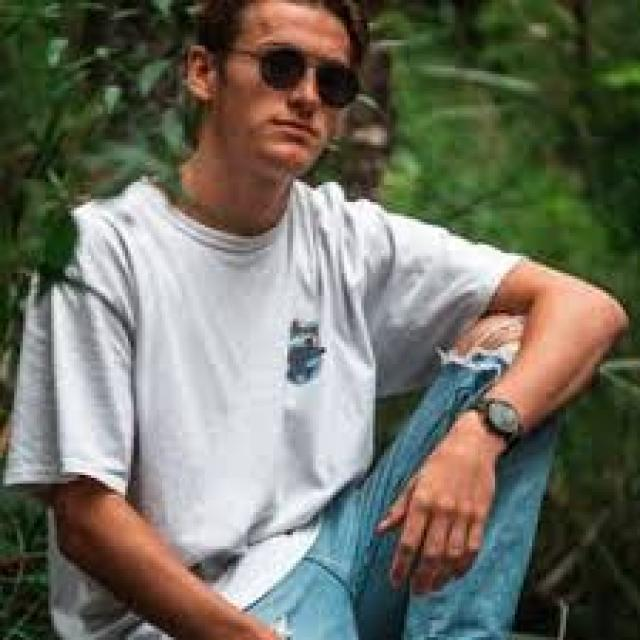head: (188, 0, 372, 182)
